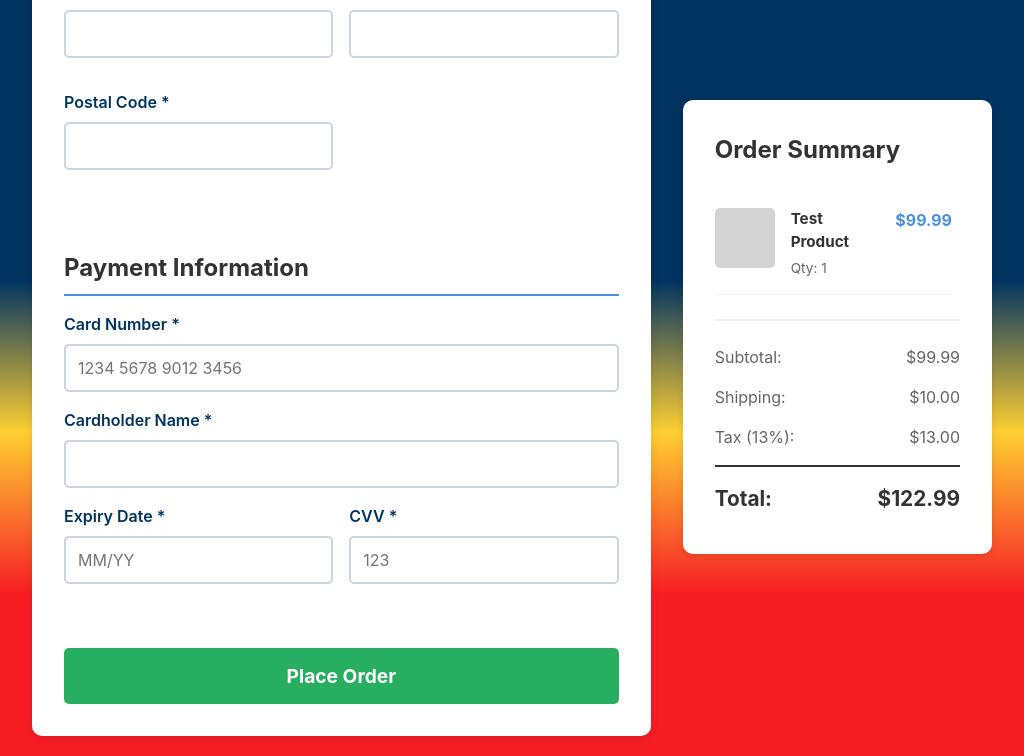
Scenario: Checkout Page › shows validation errors for empty fields
This screenshot has width=1024, height=756.
(page scrolled)
Click the button "Place Order" at (341, 676), box [64,648,619,704]
(page scrolled)
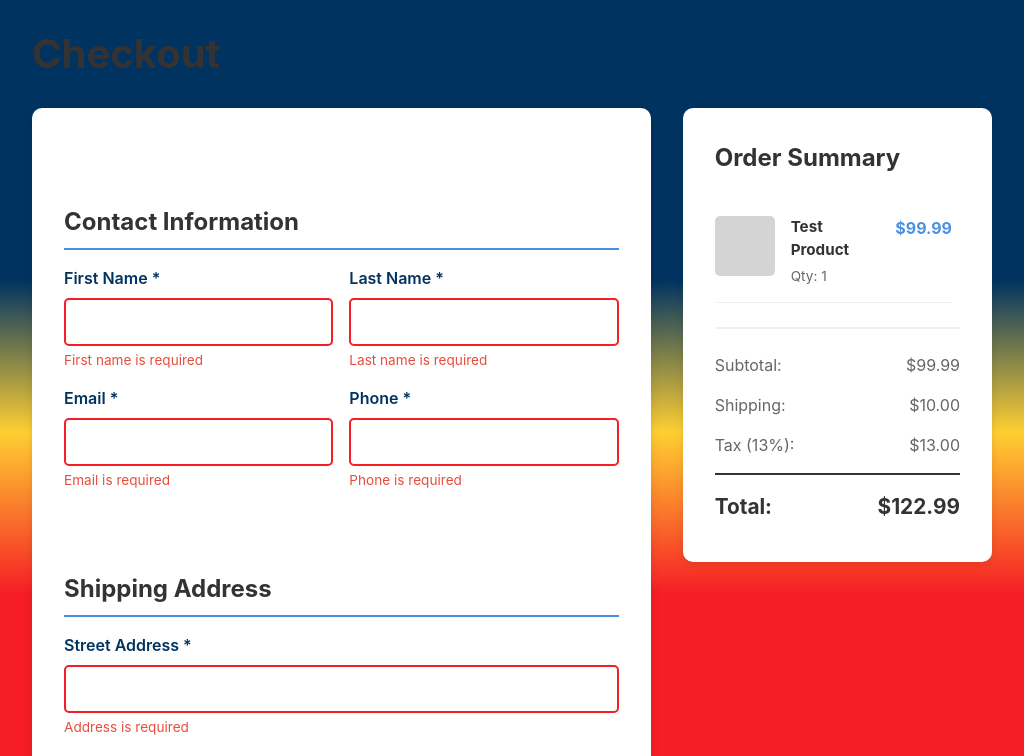
Now the text "First name is required" is shown, box [64,352,203,368]
